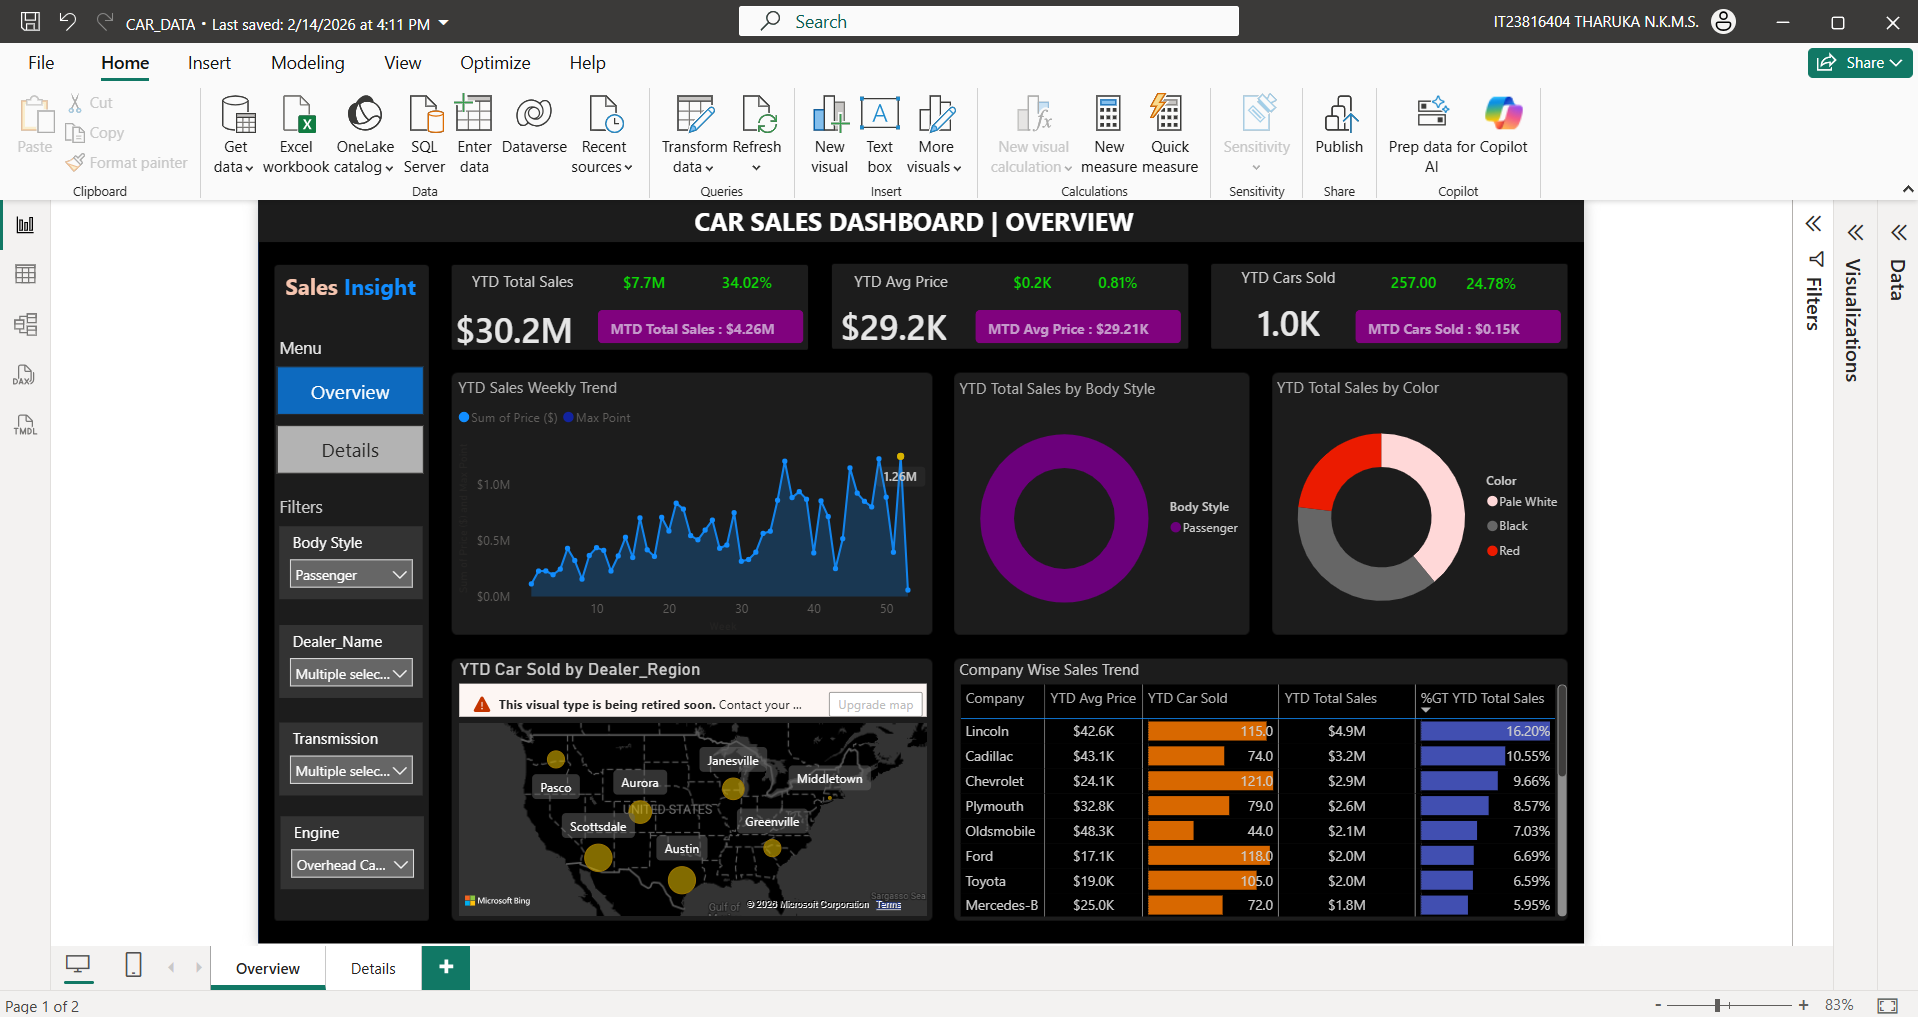

The dashboard page shown, as its layout file describes it:
{"tool":"powerbi","page":{"name":"Overview","canvas":[1280,720],"ordinal":0},"visuals":[{"type":"cardVisual","title":"YTD Total Sales","fields":{"Data":["car_data.YTD Total Sales"]},"box":[161.2,67.5,187.5,90],"z":0},{"type":"cardVisual","fields":{"Data":["car_data.Sales Difference"]},"box":[323.8,50,113.8,56.2],"z":1000},{"type":"cardVisual","fields":{"Data":["car_data.YoY Sales Growth"]},"box":[418.8,50,113.8,56.2],"z":2000},{"type":"cardVisual","fields":{"Data":["car_data.MTD KPI"]},"box":[323.8,101,208.8,42.5],"z":3000},{"type":"cardVisual","title":"YTD Avg Price","fields":{"Data":["car_data.YTD Avg Price"]},"box":[532.9,67.1,175,85],"z":4000},{"type":"cardVisual","fields":{"Data":["car_data.Avg Price Diff"]},"box":[675,50,146.2,56.2],"z":5000},{"type":"cardVisual","fields":{"Data":["car_data.YoY Avg Price Growth"]},"box":[777.5,50,106.2,56.2],"z":6000},{"type":"cardVisual","fields":{"Data":["car_data.MTD Avg Price KPI"]},"box":[687.5,101,208.8,42.5],"z":7000},{"type":"cardVisual","title":"YTD Cars Sold","fields":{"Data":["car_data.YTD Car Sold"]},"box":[907.5,63.8,175,85],"z":8000},{"type":"cardVisual","fields":{"Data":["car_data.Cars sold Diff"]},"box":[1042.5,50,146.2,56.2],"z":9000},{"type":"cardVisual","fields":{"Data":["car_data.YoY Car Sold Growth"]},"box":[1100,51.2,180,56.2],"z":10000},{"type":"cardVisual","fields":{"Data":["car_data.MTD Cars Sold KPI"]},"box":[1055,101.2,208.8,42.5],"z":11000},{"type":"areaChart","title":"YTD Sales Weekly Trend","fields":{"Category":["Calendar Table.Week"],"Y":["Sum(car_data.Price ($))","car_data.Max Point"]},"box":[188.8,170,461.2,252.5],"z":12000},{"type":"donutChart","fields":{"Category":["car_data.Body Style"],"Y":["car_data.YTD Total Sales"]},"box":[672.5,171.2,290,252.5],"z":13000},{"type":"donutChart","fields":{"Y":["car_data.YTD Total Sales"],"Category":["car_data.Color"]},"box":[978.8,170,290,252.5],"z":14000},{"type":"map","fields":{"Category":["car_data.Dealer_Region"],"Size":["car_data.YTD Car Sold"]},"box":[188.9,442.2,461.1,253.3],"z":15000},{"type":"tableEx","title":"Company Wise Sales Trend","fields":{"Values":["car_data.Company","car_data.YTD Avg Price","car_data.YTD Car Sold","car_data.YTD Total Sales","Divide(car_data.YTD Total Sales, ScopedEval(car_data.YTD Total Sales, []))"]},"box":[672.5,442.5,596.2,253.8],"z":16000},{"type":"textbox","box":[416.2,0,555,50],"z":17000},{"type":"slicer","fields":{"Values":["car_data.Body Style"]},"box":[20,315,138.8,70],"z":18000},{"type":"slicer","fields":{"Values":["car_data.Dealer_Name"]},"box":[20,410,138.8,70],"z":19000},{"type":"slicer","fields":{"Values":["car_data.Transmission"]},"box":[20,503.8,138.8,70],"z":20000},{"type":"slicer","fields":{"Values":["car_data.Engine"]},"box":[21.2,595,138.8,70],"z":21000},{"type":"textbox","box":[16.2,280,150,32.5],"z":22000},{"type":"textbox","box":[14.3,64.3,150,55.7],"z":23000},{"type":"textbox","box":[15.7,127.1,128.6,32.9],"z":24000},{"type":"pageNavigator","box":[18.6,160,142.9,105.7],"z":25000}]}

Visuals, with their boxes on the page's 1280x720 design canvas (x1, y1, x2, y2). These are canvas units, not pixel positions in the 1918x1017 screenshot, which may show the page scaled, cropped or inside an application window:
"YTD Total Sales" cardVisual: (left=161, top=68, right=349, bottom=158)
cardVisual - car_data.Sales Difference: (left=324, top=50, right=438, bottom=106)
cardVisual - car_data.YoY Sales Growth: (left=419, top=50, right=533, bottom=106)
cardVisual - car_data.MTD KPI: (left=324, top=101, right=533, bottom=144)
"YTD Avg Price" cardVisual: (left=533, top=67, right=708, bottom=152)
cardVisual - car_data.Avg Price Diff: (left=675, top=50, right=821, bottom=106)
cardVisual - car_data.YoY Avg Price Growth: (left=778, top=50, right=884, bottom=106)
cardVisual - car_data.MTD Avg Price KPI: (left=688, top=101, right=896, bottom=144)
"YTD Cars Sold" cardVisual: (left=908, top=64, right=1082, bottom=149)
cardVisual - car_data.Cars sold Diff: (left=1042, top=50, right=1189, bottom=106)
cardVisual - car_data.YoY Car Sold Growth: (left=1100, top=51, right=1280, bottom=107)
cardVisual - car_data.MTD Cars Sold KPI: (left=1055, top=101, right=1264, bottom=144)
"YTD Sales Weekly Trend" areaChart: (left=189, top=170, right=650, bottom=422)
donutChart - car_data.Body Style x car_data.YTD Total Sales: (left=672, top=171, right=962, bottom=424)
donutChart - car_data.YTD Total Sales x car_data.Color: (left=979, top=170, right=1269, bottom=422)
map - car_data.Dealer_Region x car_data.YTD Car Sold: (left=189, top=442, right=650, bottom=696)
"Company Wise Sales Trend" tableEx: (left=672, top=442, right=1269, bottom=696)
textbox: (left=416, top=0, right=971, bottom=50)
slicer - car_data.Body Style: (left=20, top=315, right=159, bottom=385)
slicer - car_data.Dealer_Name: (left=20, top=410, right=159, bottom=480)
slicer - car_data.Transmission: (left=20, top=504, right=159, bottom=574)
slicer - car_data.Engine: (left=21, top=595, right=160, bottom=665)
textbox: (left=16, top=280, right=166, bottom=312)
textbox: (left=14, top=64, right=164, bottom=120)
textbox: (left=16, top=127, right=144, bottom=160)
pageNavigator: (left=19, top=160, right=162, bottom=266)
